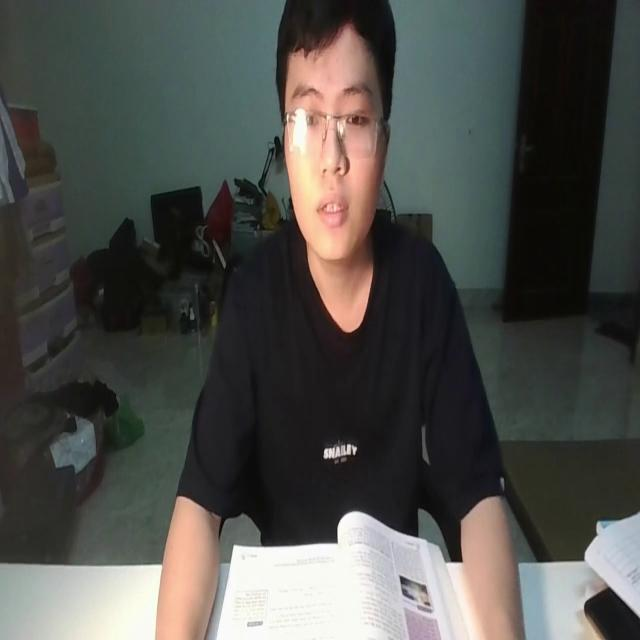book: (221, 511, 466, 640)
student: (153, 0, 528, 640)
